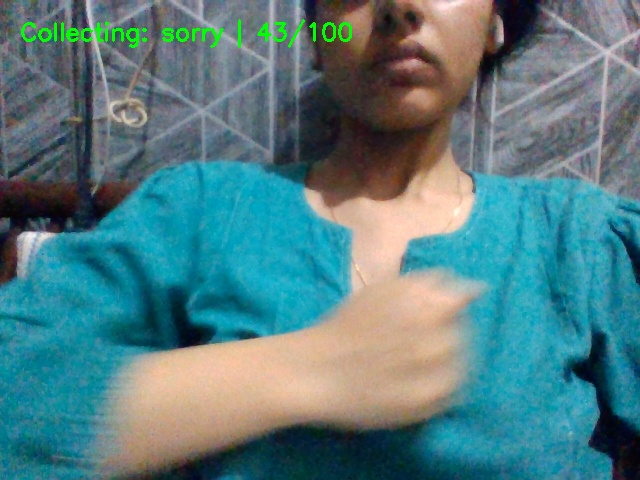sorry: (271, 262, 497, 469)
